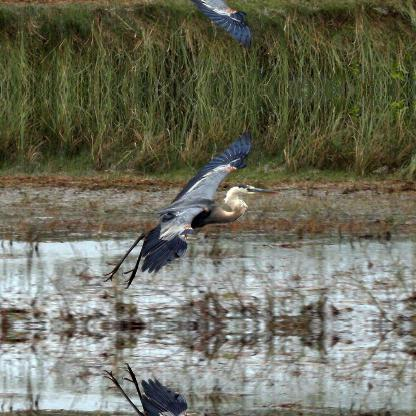Bird: (112, 136, 266, 270), (112, 0, 266, 43), (112, 380, 266, 415)
